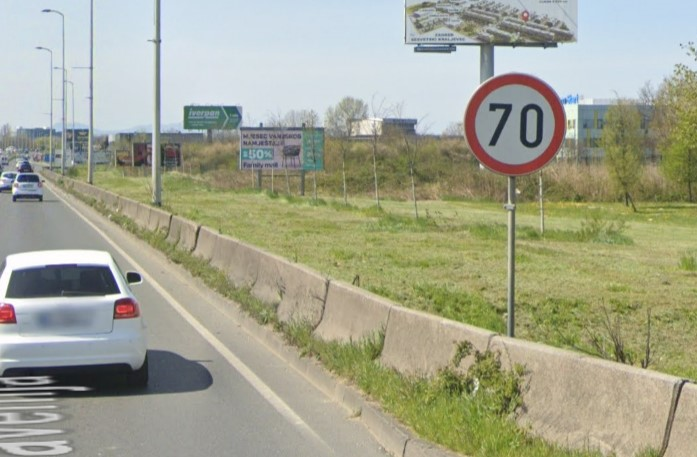Ograničenje brzine 70: (464, 72, 567, 176)
